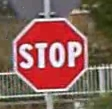stop: (11, 15, 89, 92)
